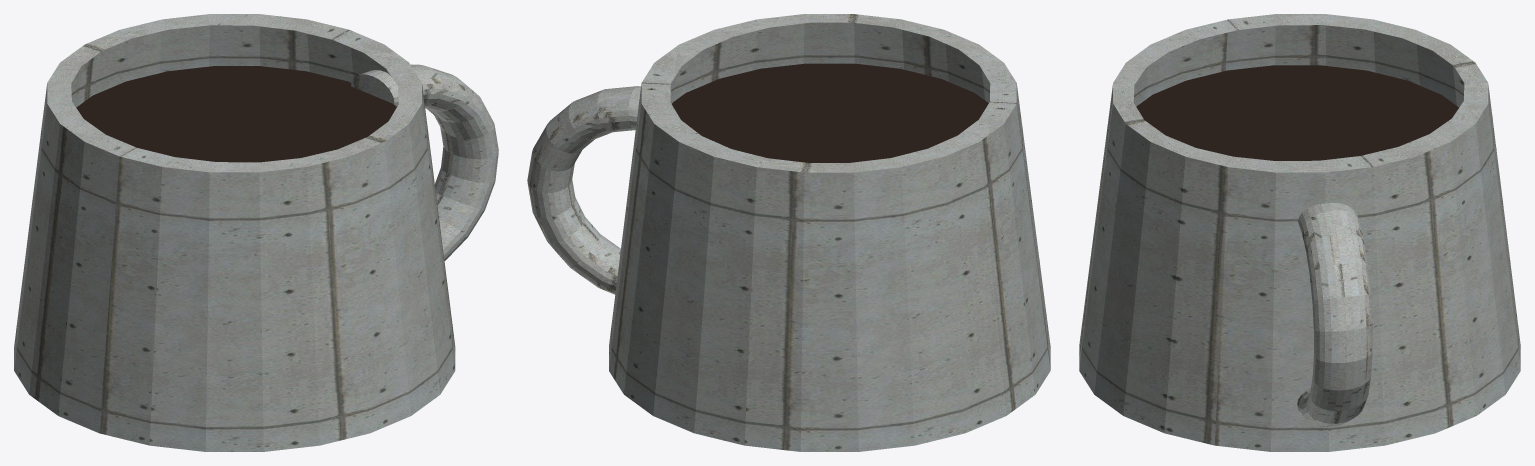
The picture shows the model from 3 angles, left to right: view 1: azimuth 30°, elevation 25°; view 2: azimuth 150°, elevation 25°; view 3: azimuth 270°, elevation 25°; orthographic projection.
Parts seen in each view (by area): view 1: mesh3_mesh3-geometry, mesh2_mesh2-geometry, mesh1_mesh1-geometry; view 2: mesh3_mesh3-geometry, mesh2_mesh2-geometry, mesh1_mesh1-geometry; view 3: mesh3_mesh3-geometry, mesh2_mesh2-geometry, mesh1_mesh1-geometry.
Part boxes in pixels (x1,y1,x2,y2): mesh3_mesh3-geometry: (14,14,455,451); mesh2_mesh2-geometry: (76,66,396,162); mesh1_mesh1-geometry: (351,64,498,260); mesh3_mesh3-geometry: (609,14,1050,451); mesh2_mesh2-geometry: (671,63,988,162); mesh1_mesh1-geometry: (527,86,673,294); mesh3_mesh3-geometry: (1079,14,1520,451); mesh2_mesh2-geometry: (1136,65,1458,160); mesh1_mesh1-geometry: (1297,203,1372,426).
Size of the model in its own units: 0.7155 by 0.3862 by 0.5822.
